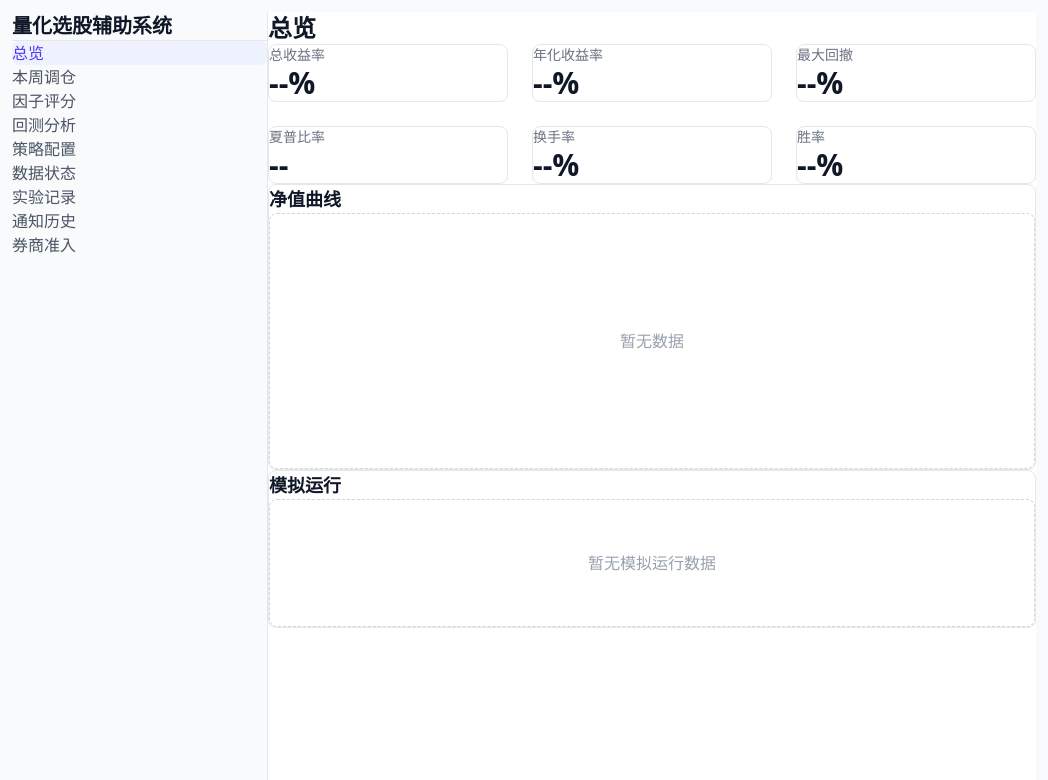
it: App workspace navigation › renders the overview first and switches to the rebalance page
Expected: the heading "总览" is shown, [268, 11, 316, 44]
What coordinates should you click on to do the following:
click the button "本周调仓"
I would click on:
 (140, 77)
Its box is [12, 65, 267, 89].
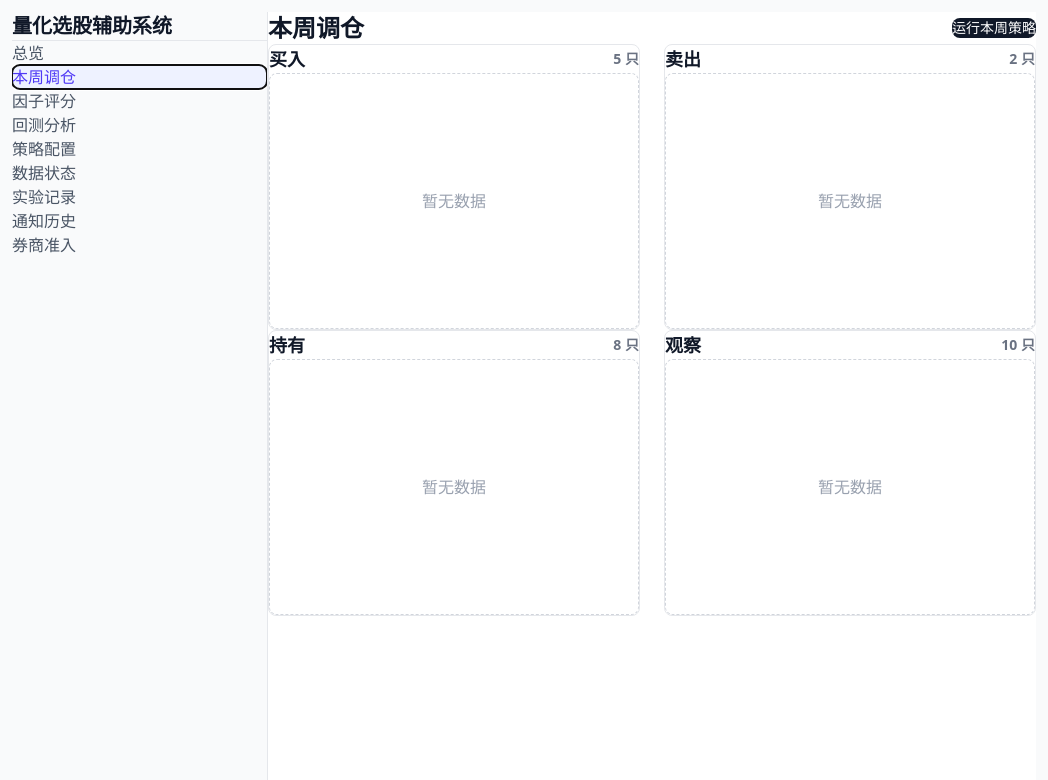
Expected: the heading "本周调仓" is shown, [268, 12, 364, 44]
Expected: the heading "买入 5 只" is shown, [269, 45, 639, 73]
Expected: the heading "卖出 2 只" is shown, [665, 45, 1035, 73]
